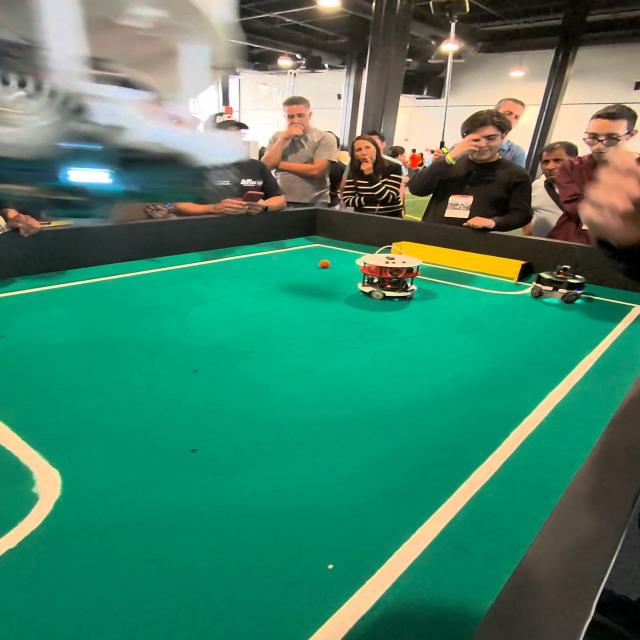Robot: (355, 238, 420, 304), (528, 253, 588, 309)
pelota: (319, 258, 330, 268)
